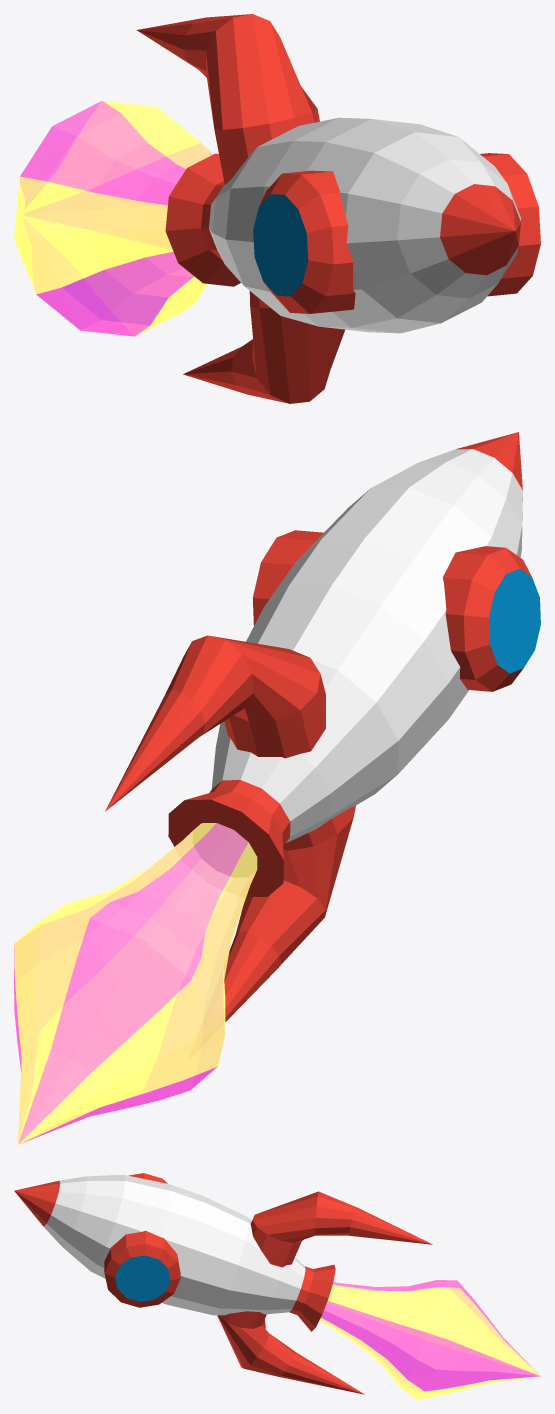
File: RocketShip.glb
3 renders of one model, top to bottom at view 1: azimuth 30°, elevation 25°; view 2: azimuth 150°, elevation 25°; view 3: azimuth 270°, elevation 25°, orthographic. The views are drawn at different scales.
Parts seen in each view (by area): view 1: group125571997; view 2: group125571997; view 3: group125571997.
Boxes of the visible parts, x1,y1,x2,y2 form: group125571997: [14, 14, 540, 403]; group125571997: [14, 432, 540, 1144]; group125571997: [14, 1173, 540, 1399].
Bounding box in the file's own units: 0.2155 × 0.3409 × 0.7566.
